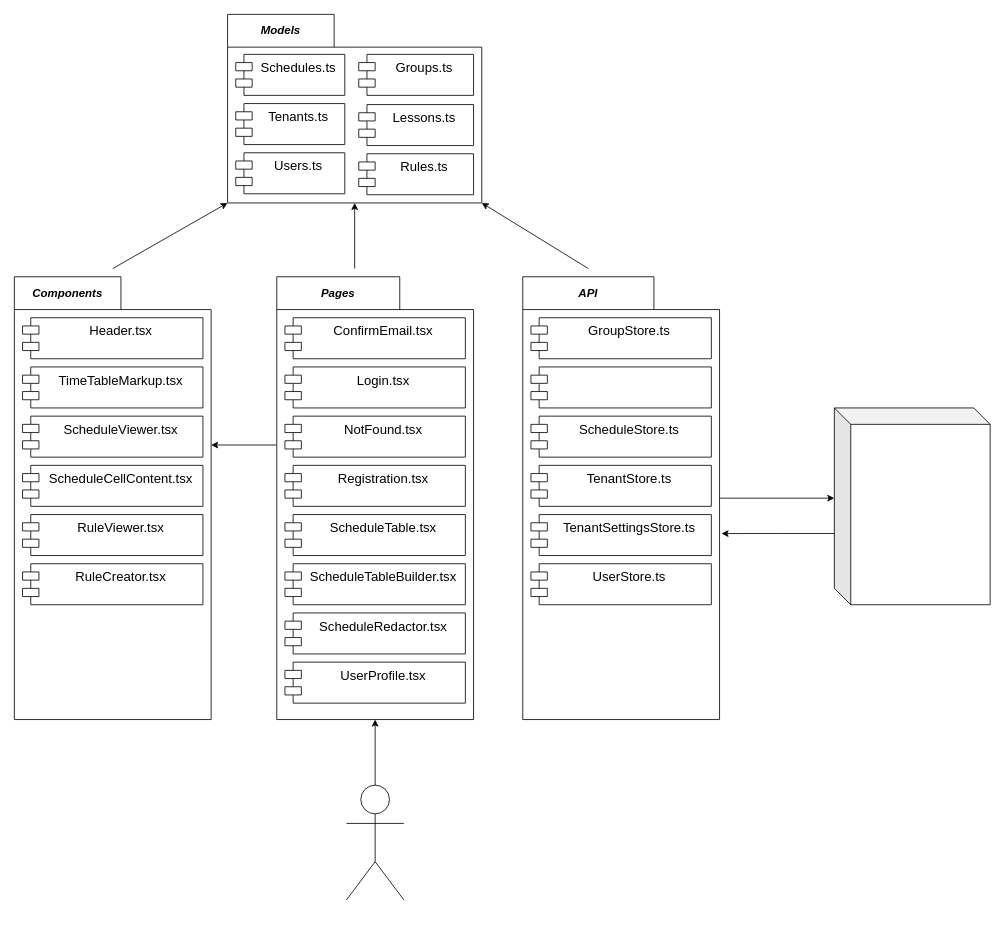
Image size: 1005x932. Some labels were removed from this diagram. Each missing label, with the centre of its shape:
"LessonStore.ts" goes at pixel 620 387.
"Server" goes at pixel 912 506.
"User/Admin" goes at pixel 375 842.
